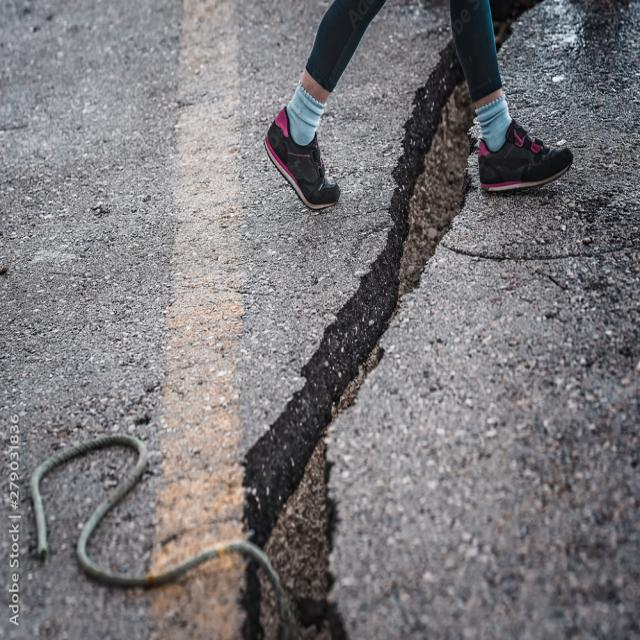Pothole: (184, 249, 639, 640)
